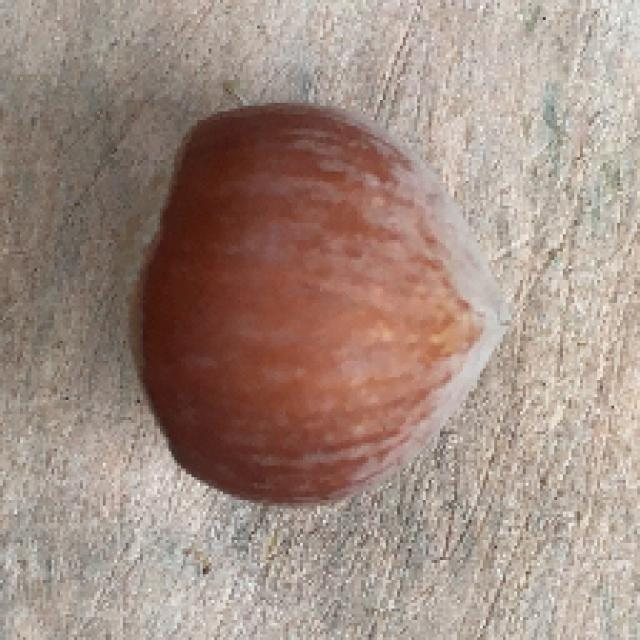qualityHazelnut: (112, 71, 507, 534)
